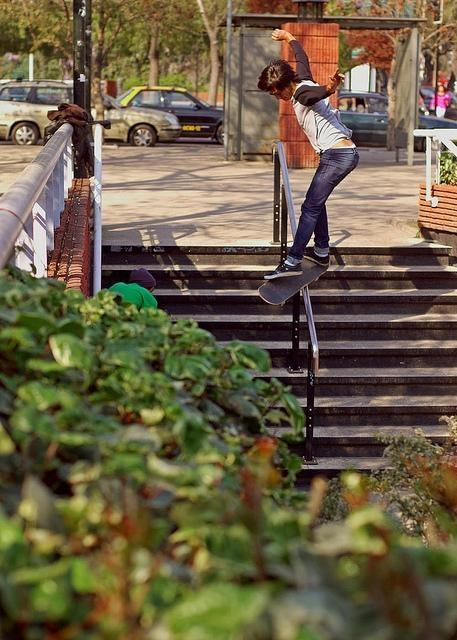car: (116, 86, 224, 145), (339, 96, 456, 146), (0, 81, 73, 146), (100, 91, 181, 146)
